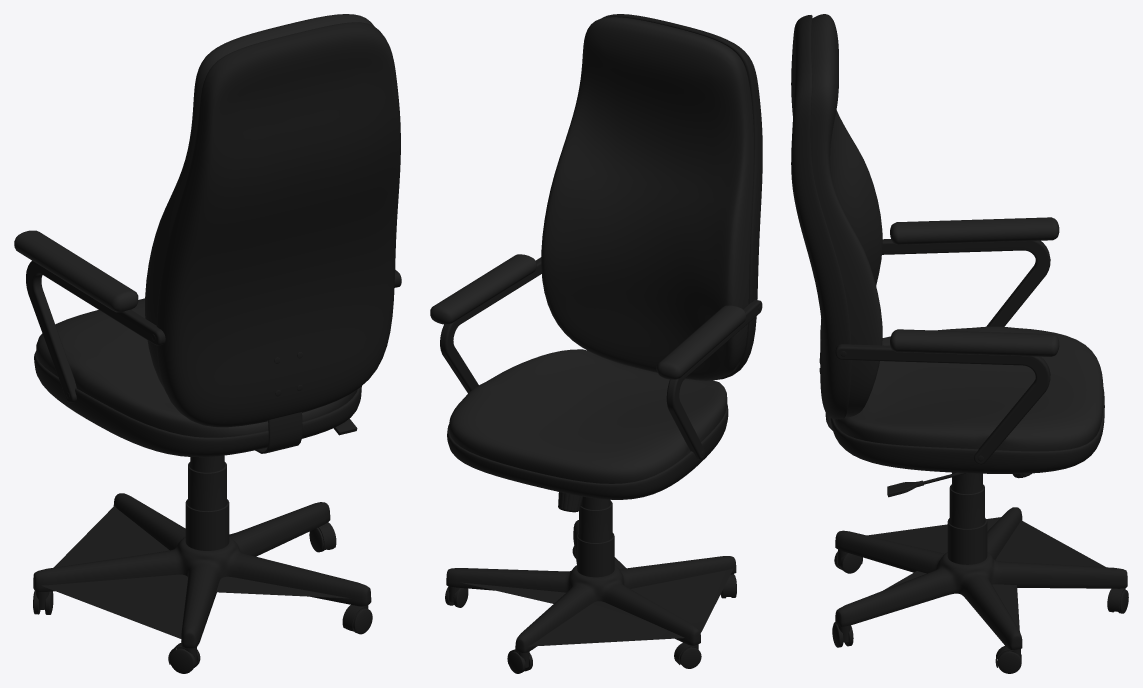
File: Office_Chair.fbx
3 renders of one model, left to right at view 1: azimuth 30°, elevation 25°; view 2: azimuth 150°, elevation 25°; view 3: azimuth 270°, elevation 25°, orthographic. The views are drawn at different scales.
Visible parts, largest first — view 1: Office chair; view 2: Office chair; view 3: Office chair.
Part boxes in pixels (<box>): Office chair: <box>14,14,401,673</box>; Office chair: <box>430,14,762,673</box>; Office chair: <box>791,14,1128,673</box>.
Bounding box in the file's own units: 63.73 × 130 × 69.81.
Materials: 2 (1 with a texture image).
